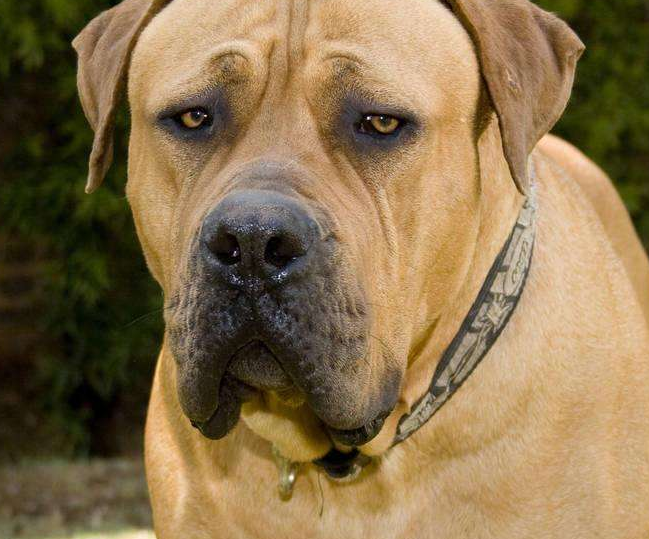nose: (195, 191, 329, 292)
